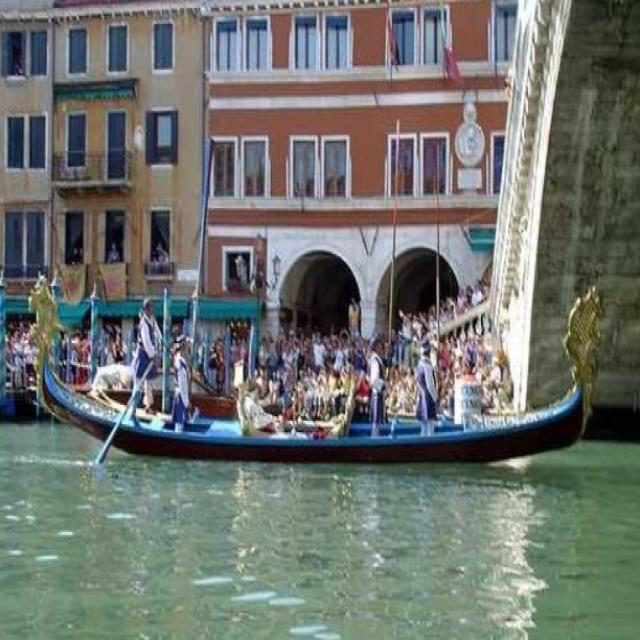boat: (30, 272, 633, 479)
